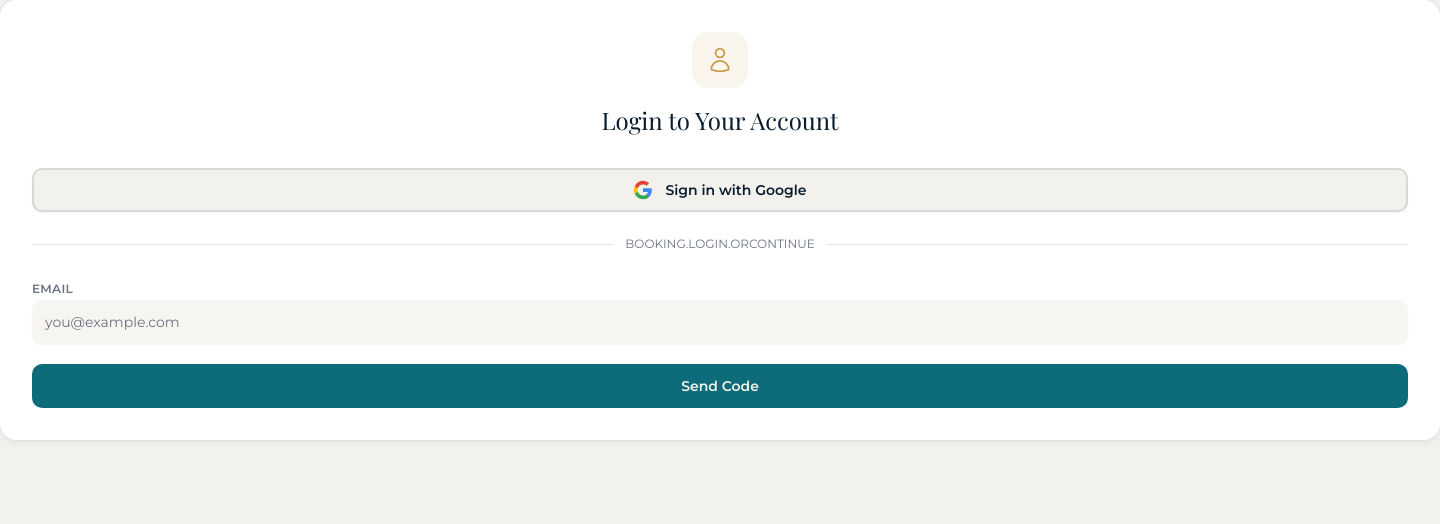
LoginForm › shows an error when the email is empty
Click the button "Send Code": (720, 386) [32,364,1408,408]
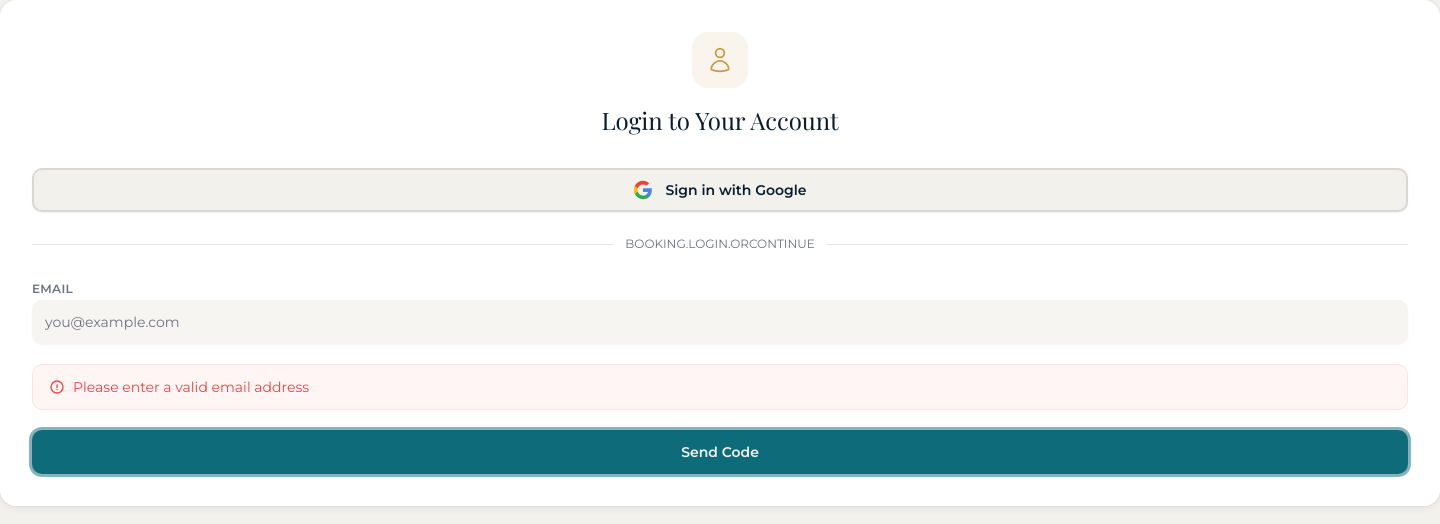
Check: the text "Please enter a valid email address" is shown, box [73,377,309,397]
